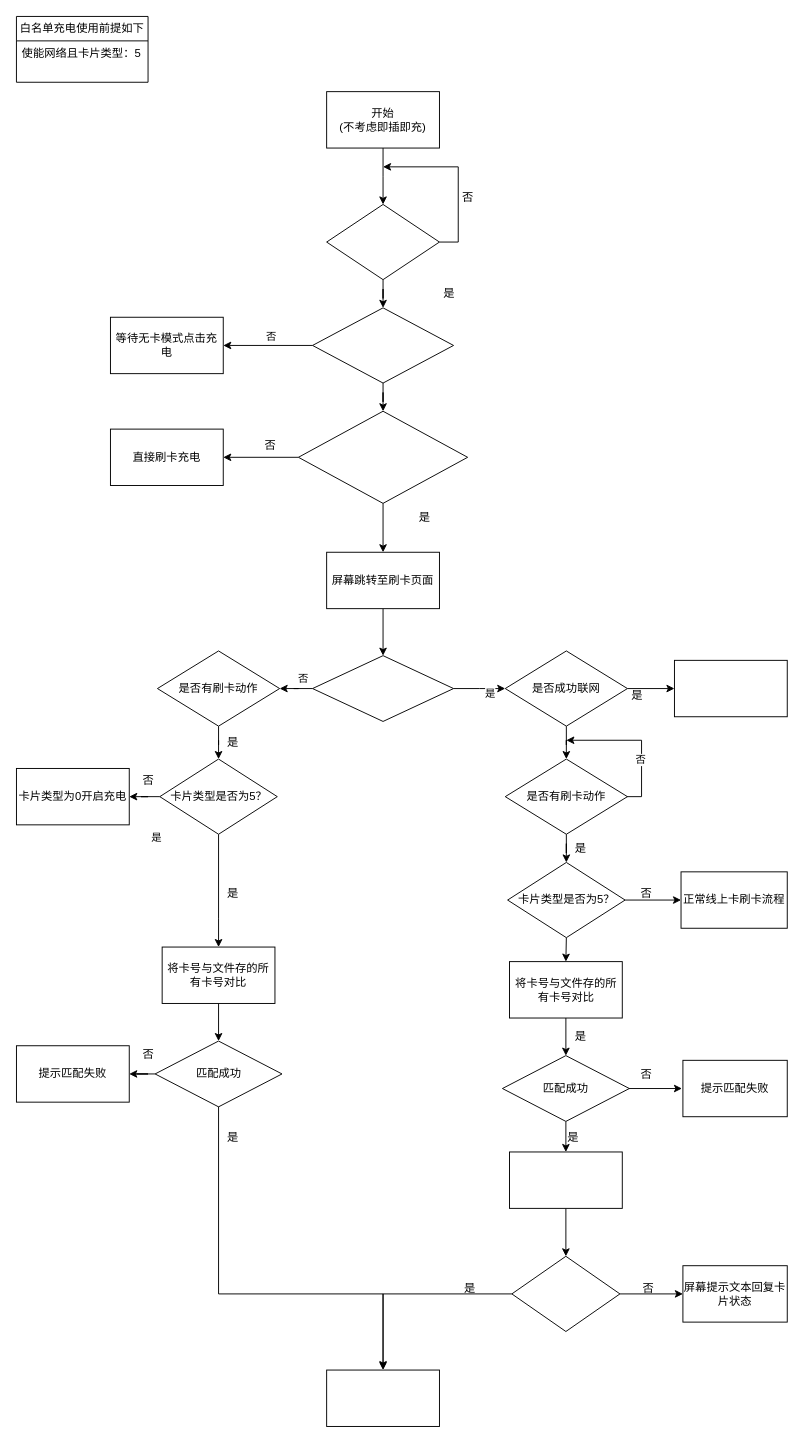
The diagram is 804 pixels wide and 1443 high, and some of its shapes have lost their labels. The shapes that lost their labels are listed below. From the top down, each one's centre as x and y in pixels, then its label:
At (x=382, y=242): "是否插枪".
At (x=383, y=345): "卡片类型是否不等于3？".
At (x=383, y=456): "是否有按下屏幕的充电按钮？".
At (x=383, y=688): "是否使能网络".
At (x=730, y=688): "就算刷卡了，什么也不做，无提示".
At (x=565, y=1179): "与uu平台交互，判断卡片是否有效".
At (x=565, y=1293): "平台回复是否成功".
At (x=382, y=1397): "进入自检，后续流程与正常充电一致".
